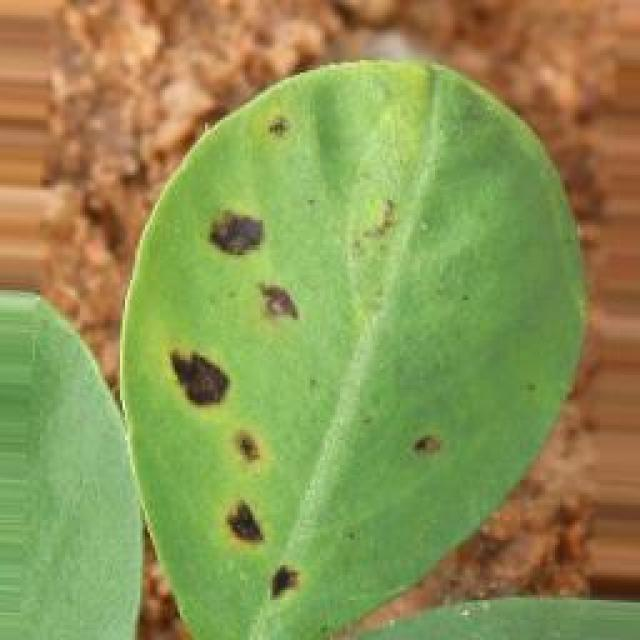Yellowish: (92, 102, 479, 596)
